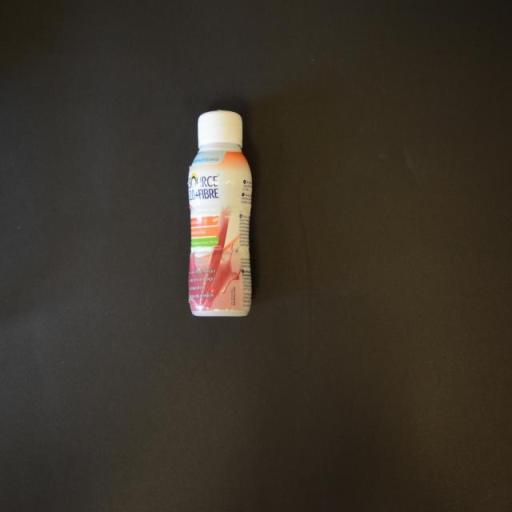plastic: (187, 108, 253, 320)
